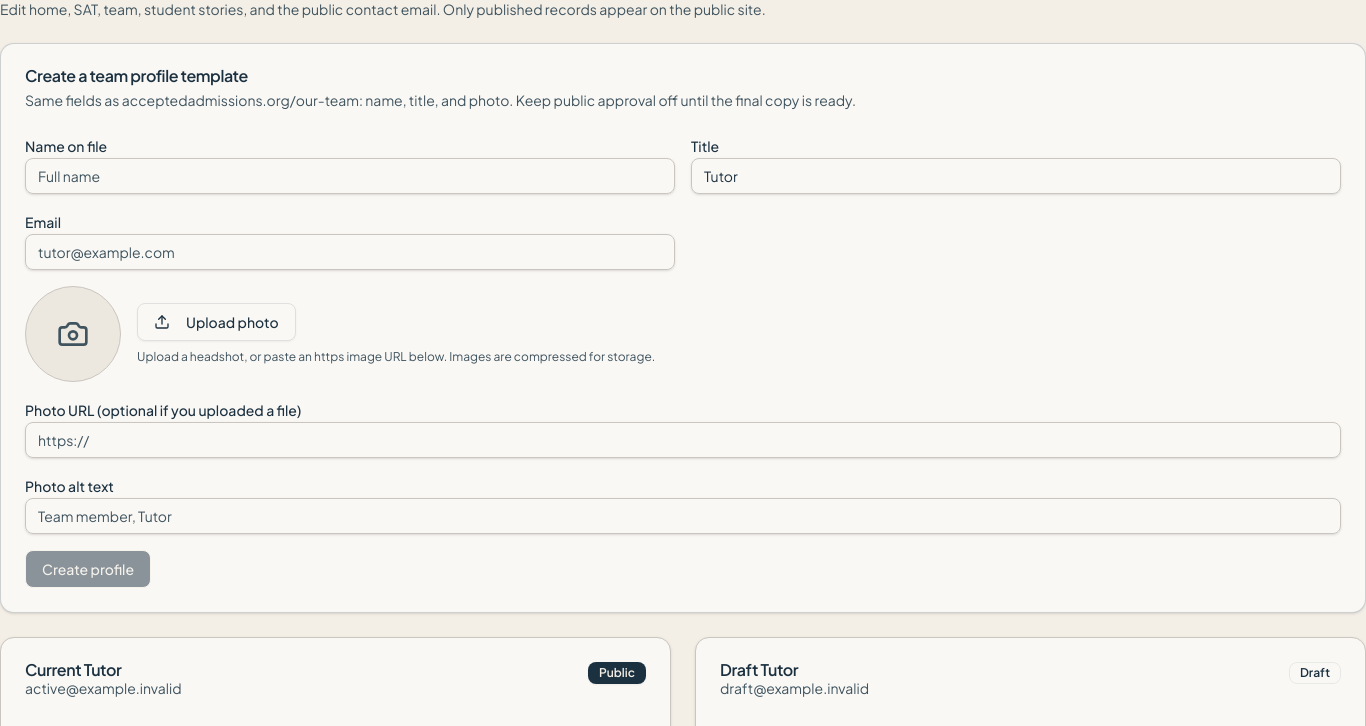
Test: administrator public content previews › creates a tutor profile with name and photo
Type "New Tutor" into the field with test id "create-tutor-name". click: (350,176)
box: [25,158,675,194]
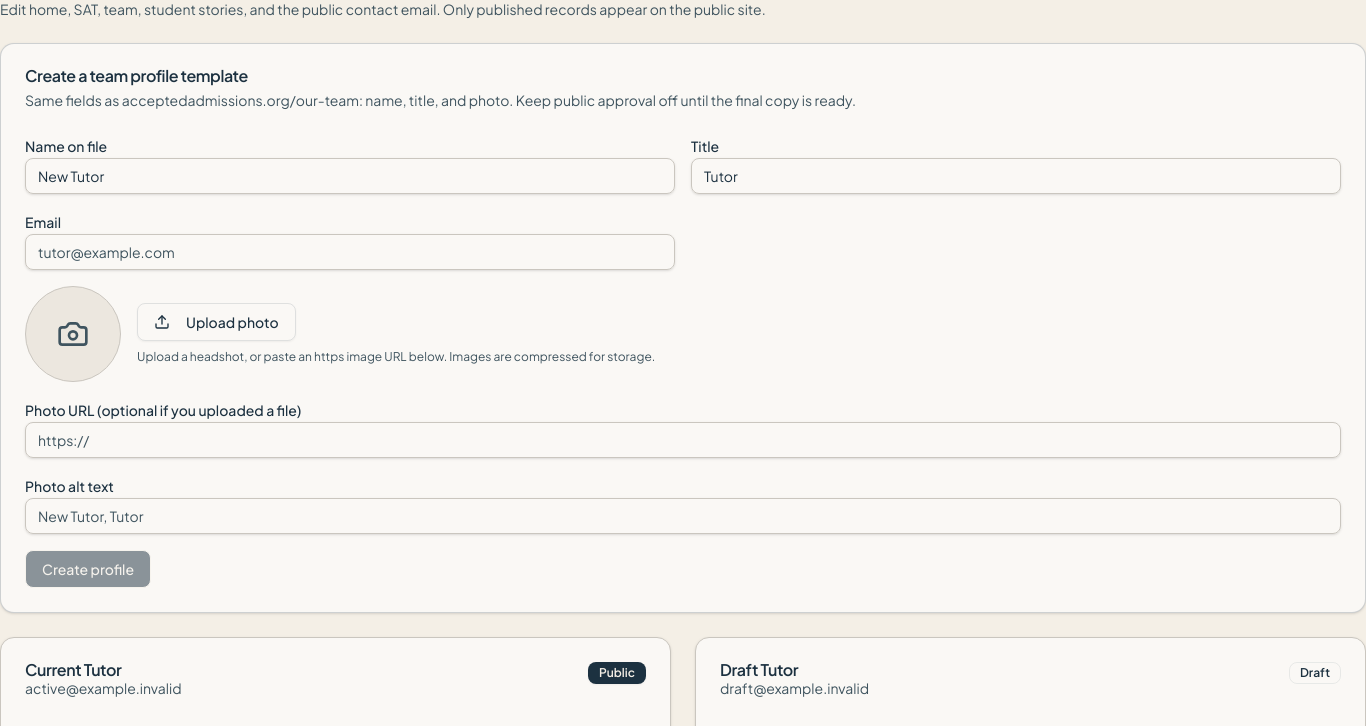
Type "new.tutor@example.invalid" into the field with test id "create-tutor-email". click: (350,252)
box: [25,234,675,270]
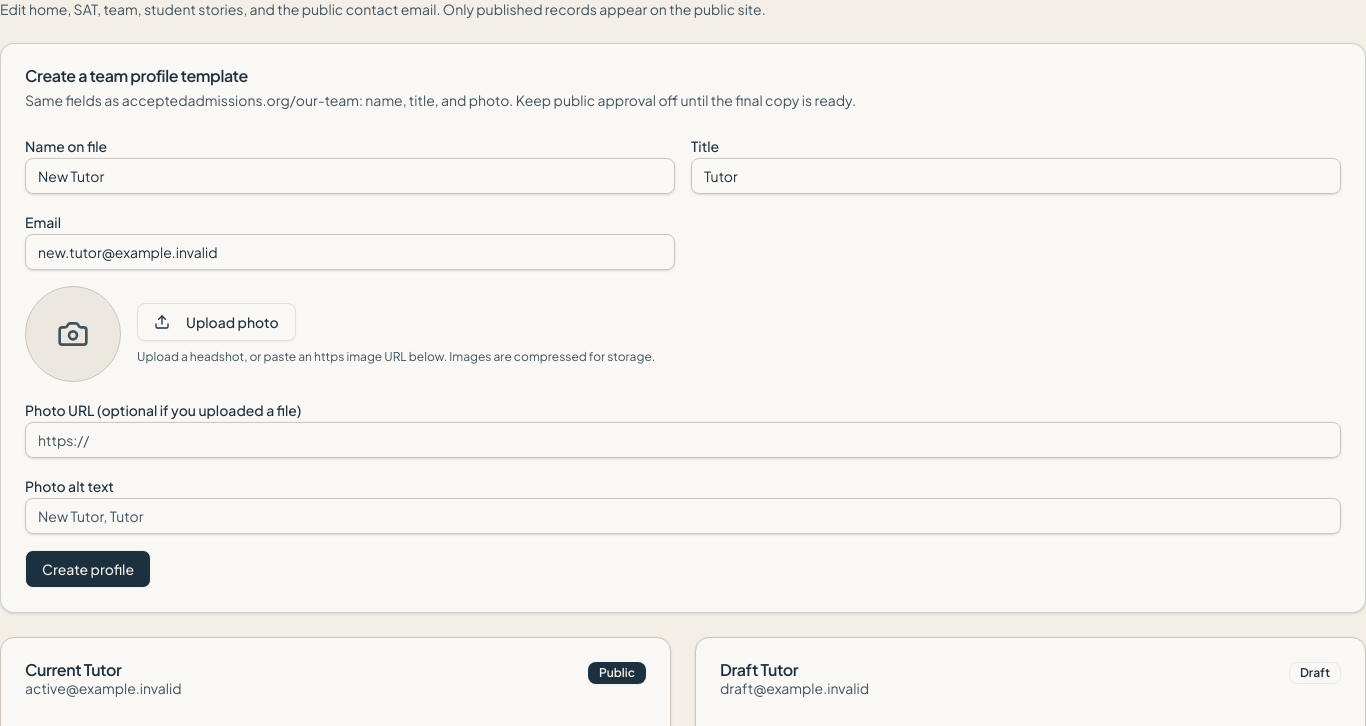
Type "https://example.com/new-tutor.jpg" into the field with test id "create-tutor-photo". click: (683,440)
box: [25,422,1341,458]
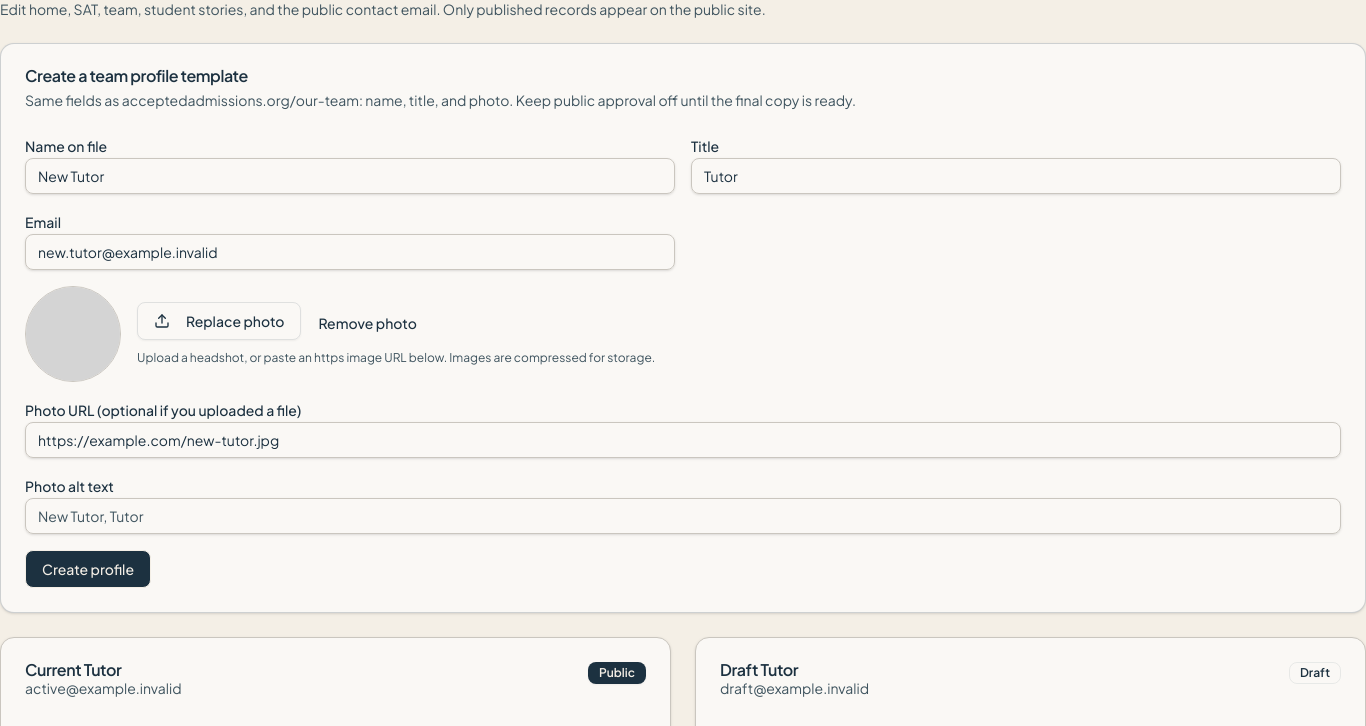
Click the button with test id "create-tutor-submit". click: (88,569)
box: [25,550,151,588]
(page scrolled)
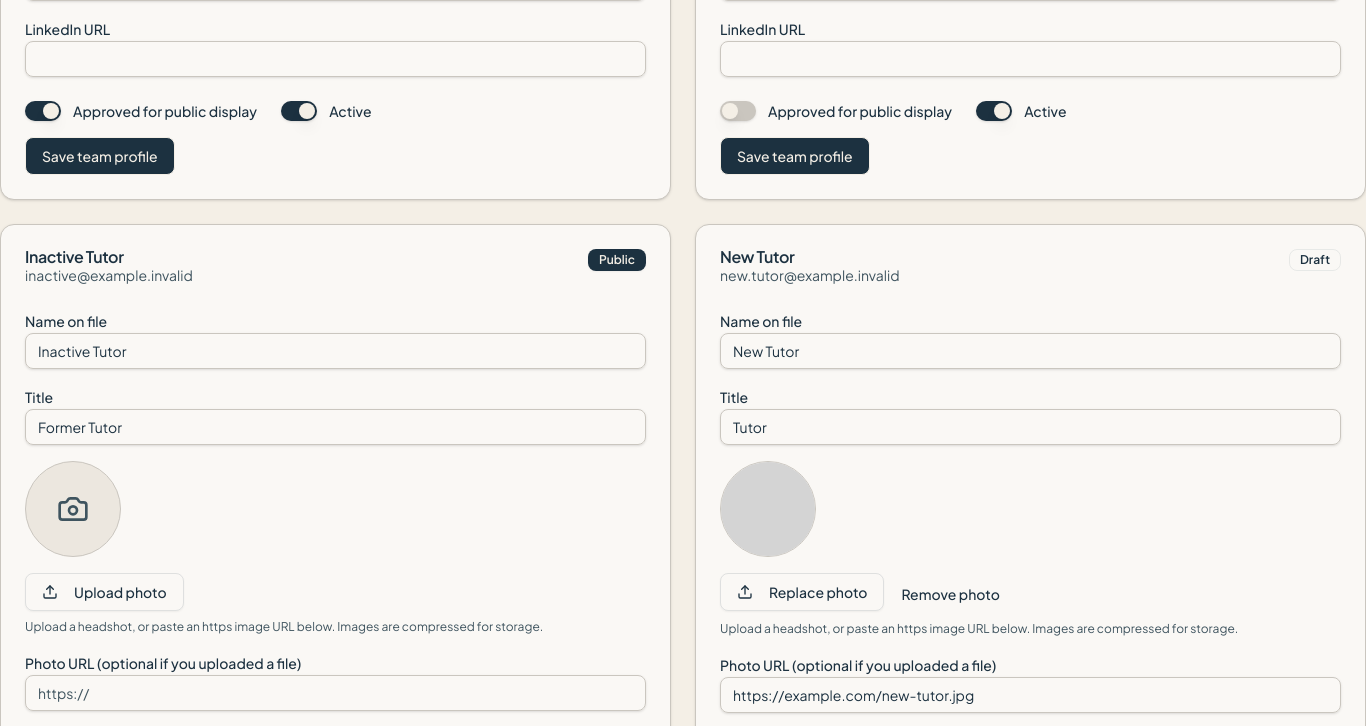
Result: the 6th field showing "New Tutor" is shown at [720,333,1341,369]
